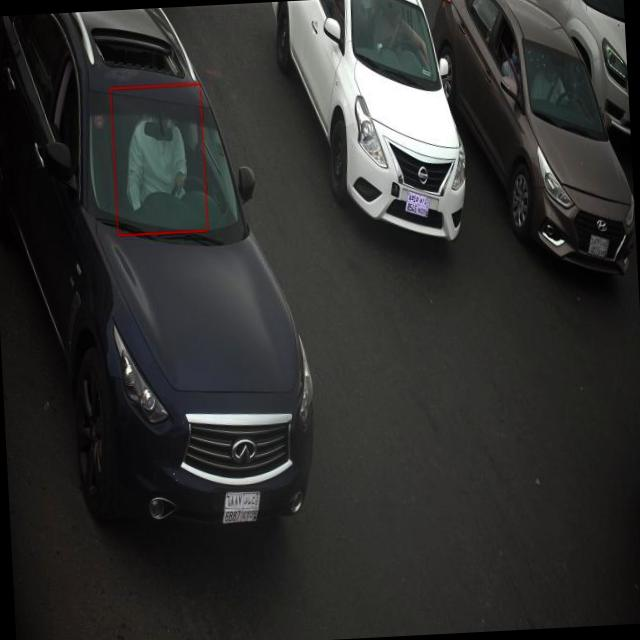person_without_seatbelt: (114, 92, 201, 232)
